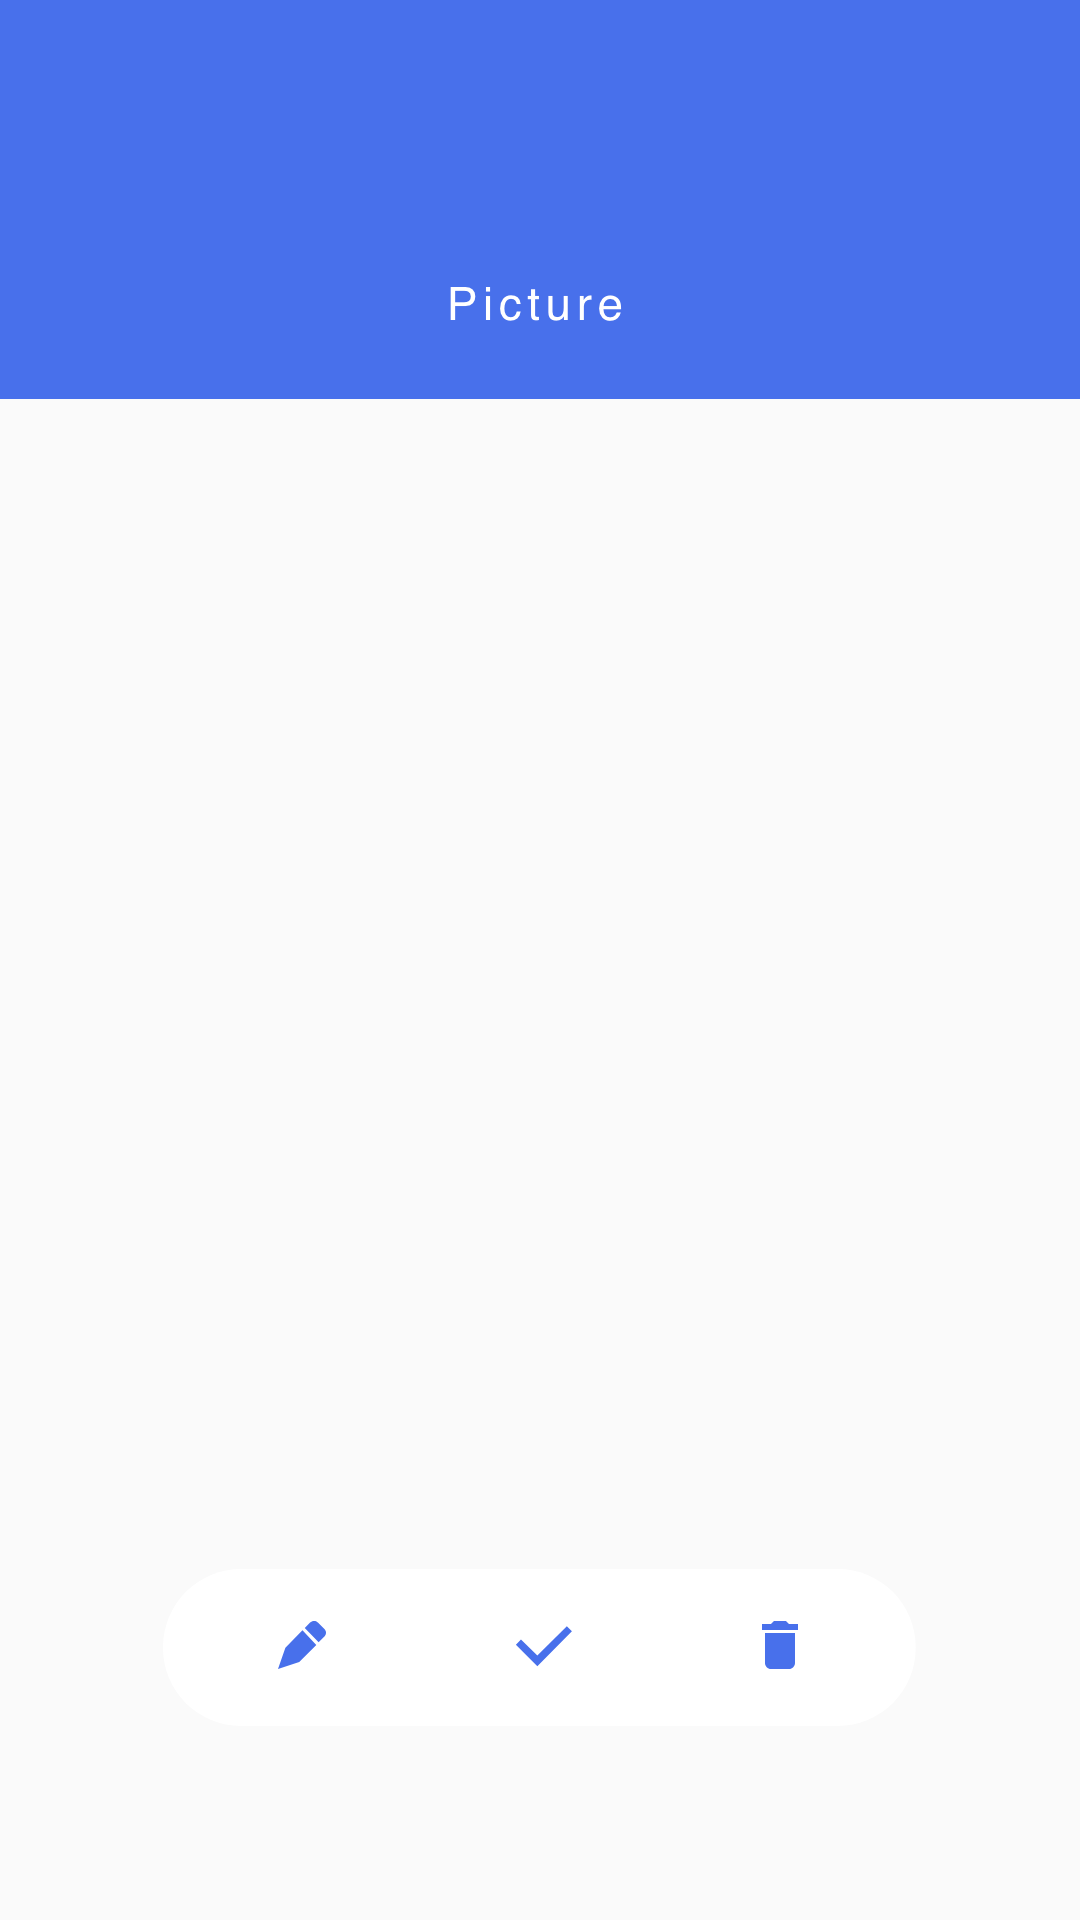

Named icons in this screenshot (1080x1920) and their bounding boxes, (x1, y1, x2, y2):
check: (516, 1626, 572, 1666)
delete: (762, 1621, 798, 1669)
pen: (278, 1621, 326, 1669)
